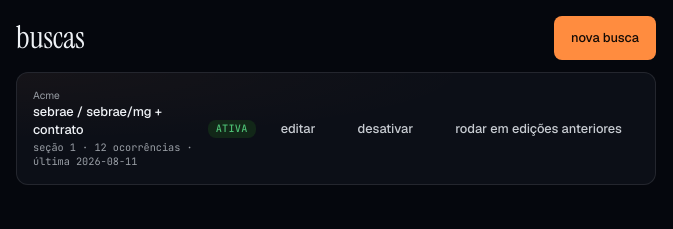
Test: a failed toggle surfaces an error instead of failing silently
Step 1. Click the button "desativar" → (385, 129), box [341,107,430,151]
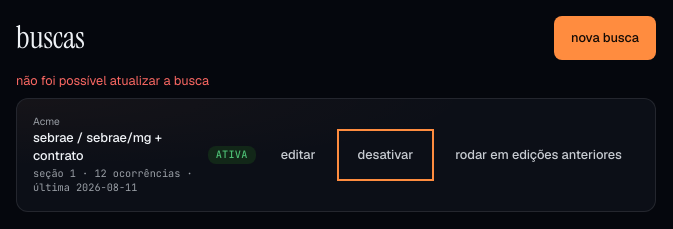
Check: the button "desativar" is shown, box [341,133,430,177]
Check: the message "não foi possível atualizar a busca" is shown, box [16,72,209,89]
